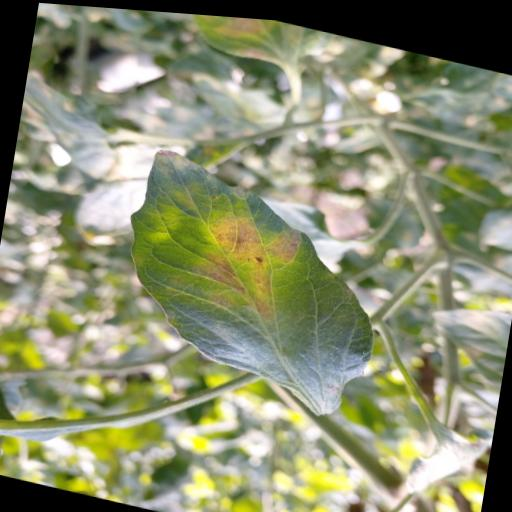Leaf Mold: (103, 138, 395, 419)
